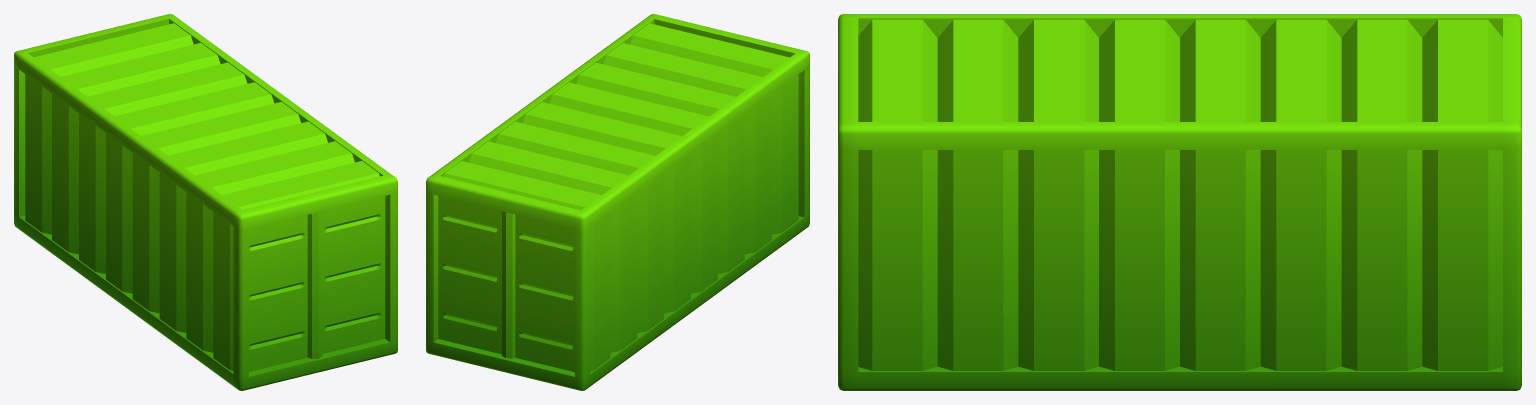
Rendered from Prop_Container_01.fbx.
The picture shows the model from 3 angles, left to right: view 1: azimuth 30°, elevation 25°; view 2: azimuth 150°, elevation 25°; view 3: azimuth 270°, elevation 25°; orthographic projection. The views are drawn at different scales.
Parts seen in each view (by area): view 1: Prop_Container_01; view 2: Prop_Container_01; view 3: Prop_Container_01.
Part boxes in pixels (box(x1,y1,x2,y2)): Prop_Container_01: box(14, 14, 397, 390); Prop_Container_01: box(426, 14, 809, 390); Prop_Container_01: box(838, 14, 1521, 390).
Size of the model in its own units: 199 by 209 by 491.
